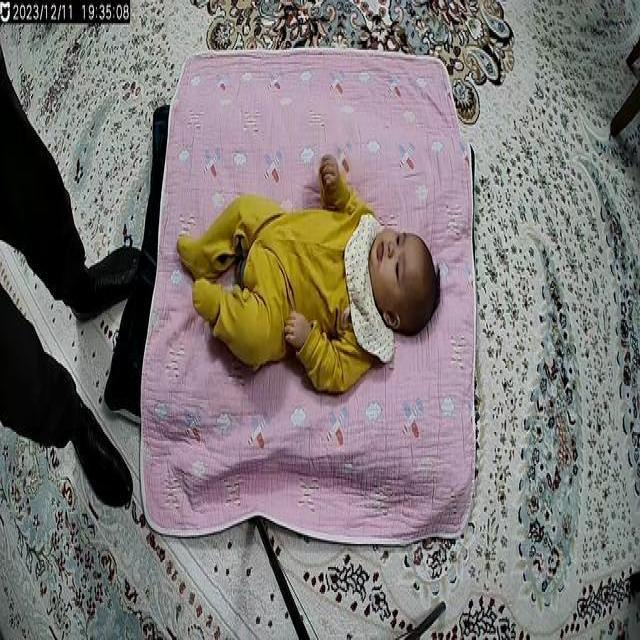baby: (174, 151, 443, 407)
